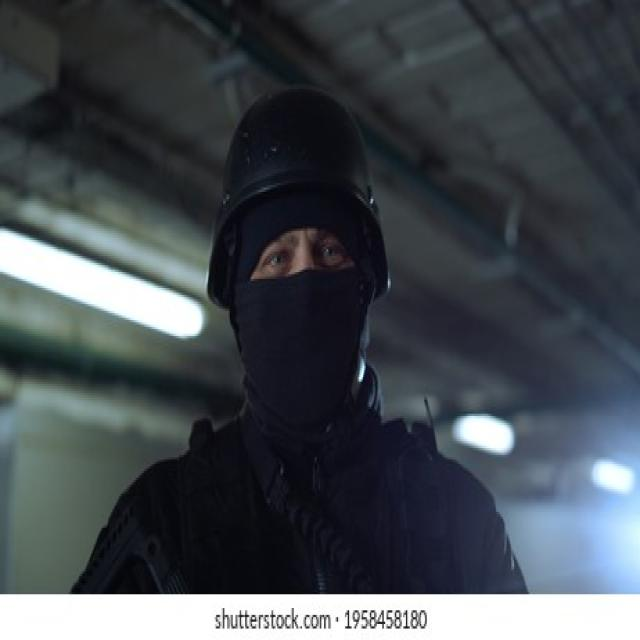6_pasamontana: (234, 188, 368, 441)
